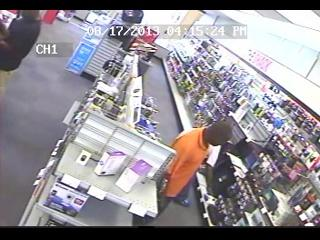Normal: (158, 117, 236, 211), (0, 10, 43, 73)
